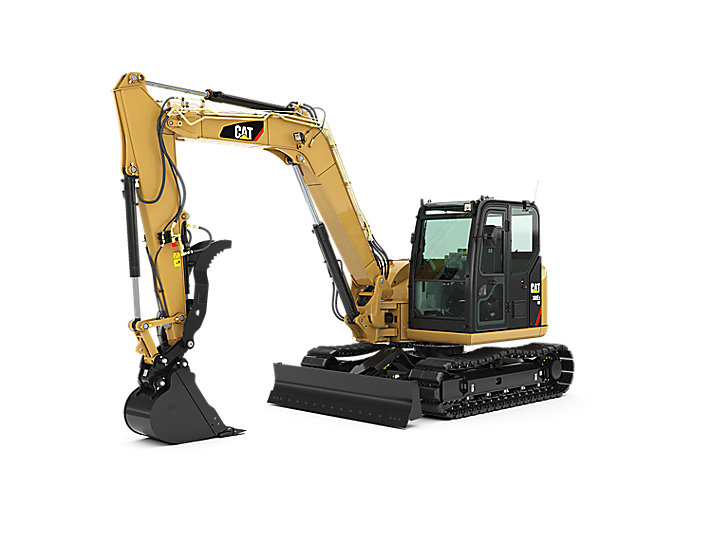backhoe: (107, 68, 577, 448)
